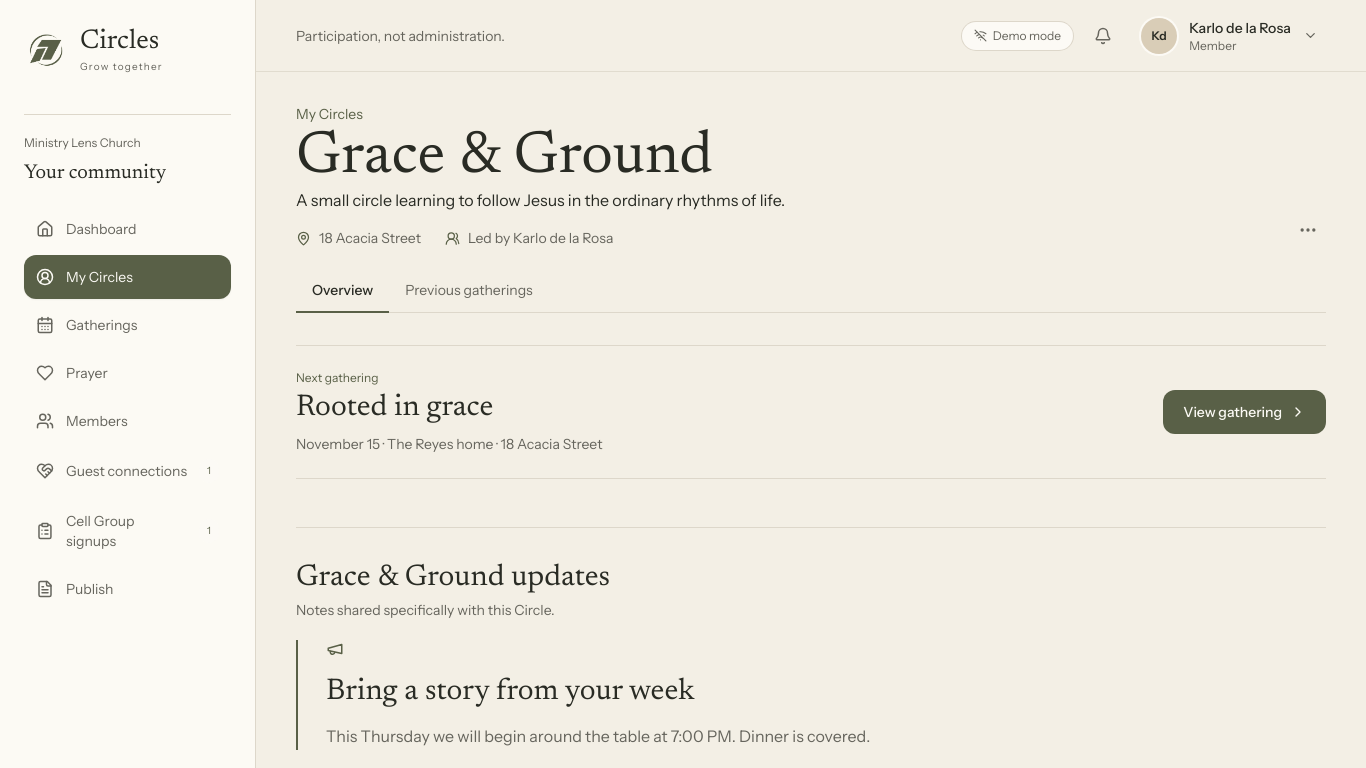
Test case: Circles MVP › does not let an ordinary member edit Circle details
This screenshot has width=1366, height=768.
expect the heading "Grace & Ground" is shown: met, box [296, 128, 785, 188]
Click the button named "Circle actions": (1308, 230) [1290, 212, 1326, 248]
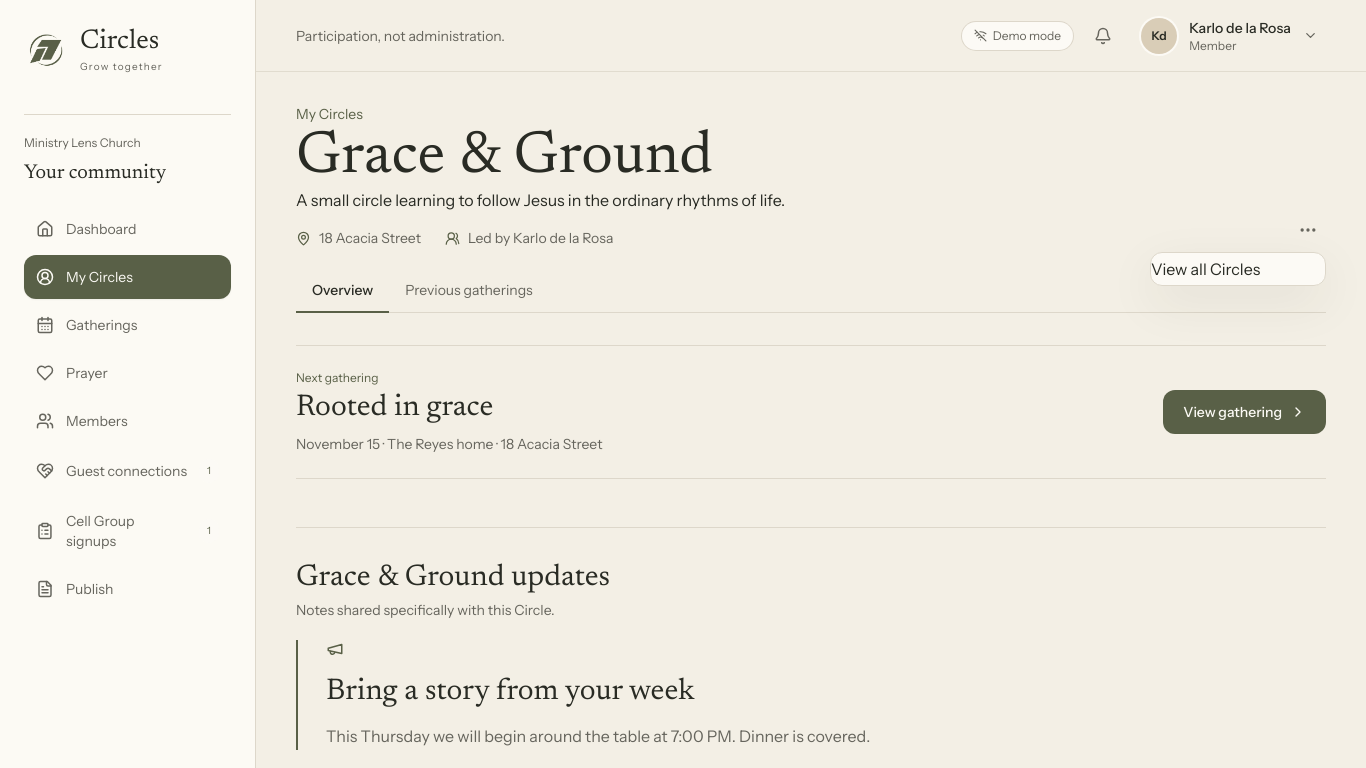
expect the menu item "View all Circles" is shown: met, box [1151, 259, 1260, 279]
